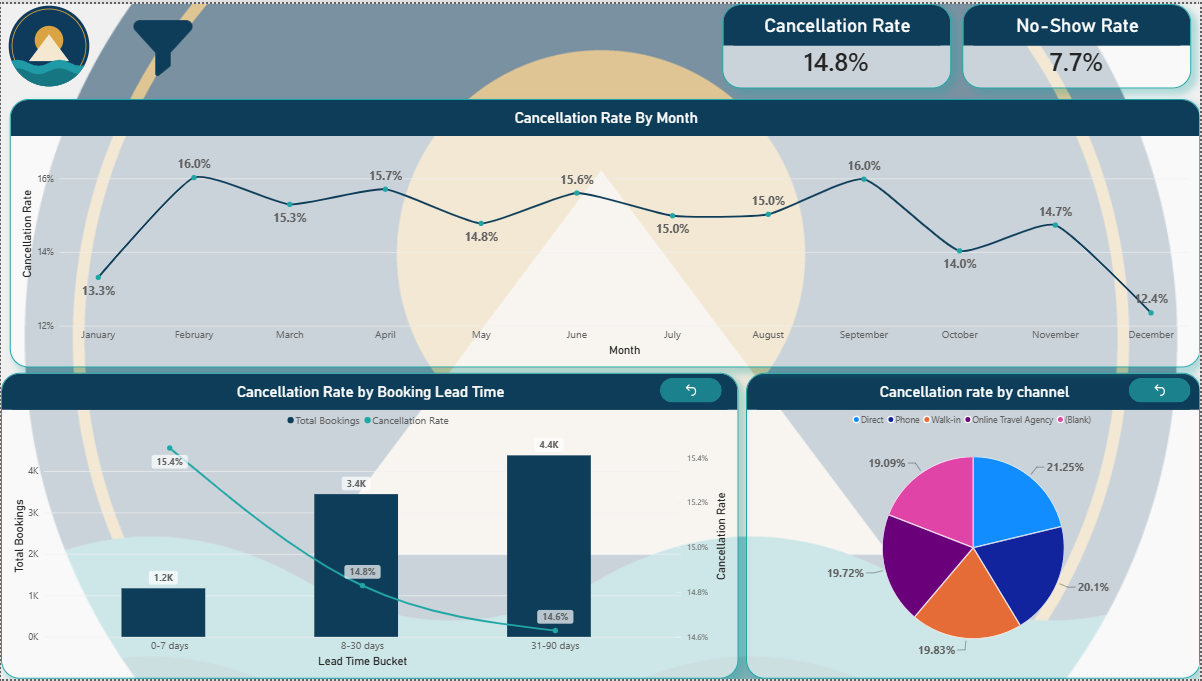

What the dashboard file says about the page in this screenshot:
{"tool":"powerbi","page":{"name":"Cancellations and no-shows","canvas":[1920,1080],"ordinal":3},"visuals":[{"type":"card","title":"Cancellation Rate ","fields":{"Values":["Measures Table.Cancellation Rate"]},"box":[1153.8,0,366,135.3],"z":0},{"type":"card","title":"No-Show Rate ","fields":{"Values":["Measures Table.No-show Rate"]},"box":[1537.7,0,366,135.3],"z":1000},{"type":"pieChart","title":"Cancellation rate by channel","fields":{"Category":["fact_bookings.booking_channel"],"Y":["Measures Table.Cancellation Rate"]},"box":[1191.6,590.8,728.1,489.4],"z":3000},{"type":"actionButton","title":"Button Payment ","box":[1804.3,598.8,99.5,39.8],"z":6000},{"type":"image","box":[0,0,153,134.3],"z":7000},{"type":"lineChart","title":"Cancellation Rate By Month","fields":{"Category":["fact_bookings.booking_date.Variation.Date Hierarchy.Month"],"Y":["Measures Table.Cancellation Rate"]},"box":[13.9,151.2,1905.7,429.7],"z":8000},{"type":"lineClusteredColumnComboChart","title":"Cancellation Rate by Booking Lead Time","fields":{"Category":["fact_bookings.Lead Time Bucket"],"Y":["Measures Table.Total Bookings"],"Y2":["Measures Table.Cancellation Rate"]},"box":[0,590.8,1179.6,489.4],"z":9000},{"type":"actionButton","title":"Button Revenue Lost to Each Hotel","box":[1054.3,598.8,99.5,39.8],"z":10000},{"type":"image","title":"Filter Button 2","box":[188.6,12,142.4,112.3],"z":12000}]}

Visuals, with their boxes in screenshot pixels (x1, y1, x2, y2), scaled from the page's 1920x1080 canvas onto the 1202x681 screenshot:
"Cancellation Rate " card: <box>722,0,951,85</box>
"No-Show Rate " card: <box>963,0,1192,85</box>
"Cancellation rate by channel" pieChart: <box>746,373,1201,680</box>
"Button Payment " actionButton: <box>1130,378,1192,403</box>
image: <box>0,0,96,85</box>
"Cancellation Rate By Month" lineChart: <box>9,95,1201,366</box>
"Cancellation Rate by Booking Lead Time" lineClusteredColumnComboChart: <box>0,373,738,680</box>
"Button Revenue Lost to Each Hotel" actionButton: <box>660,378,722,403</box>
"Filter Button 2" image: <box>118,8,207,78</box>
